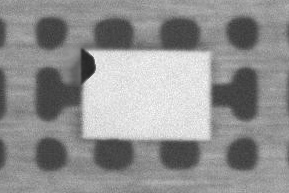DIE_BROKEN: (117, 31, 147, 55)
